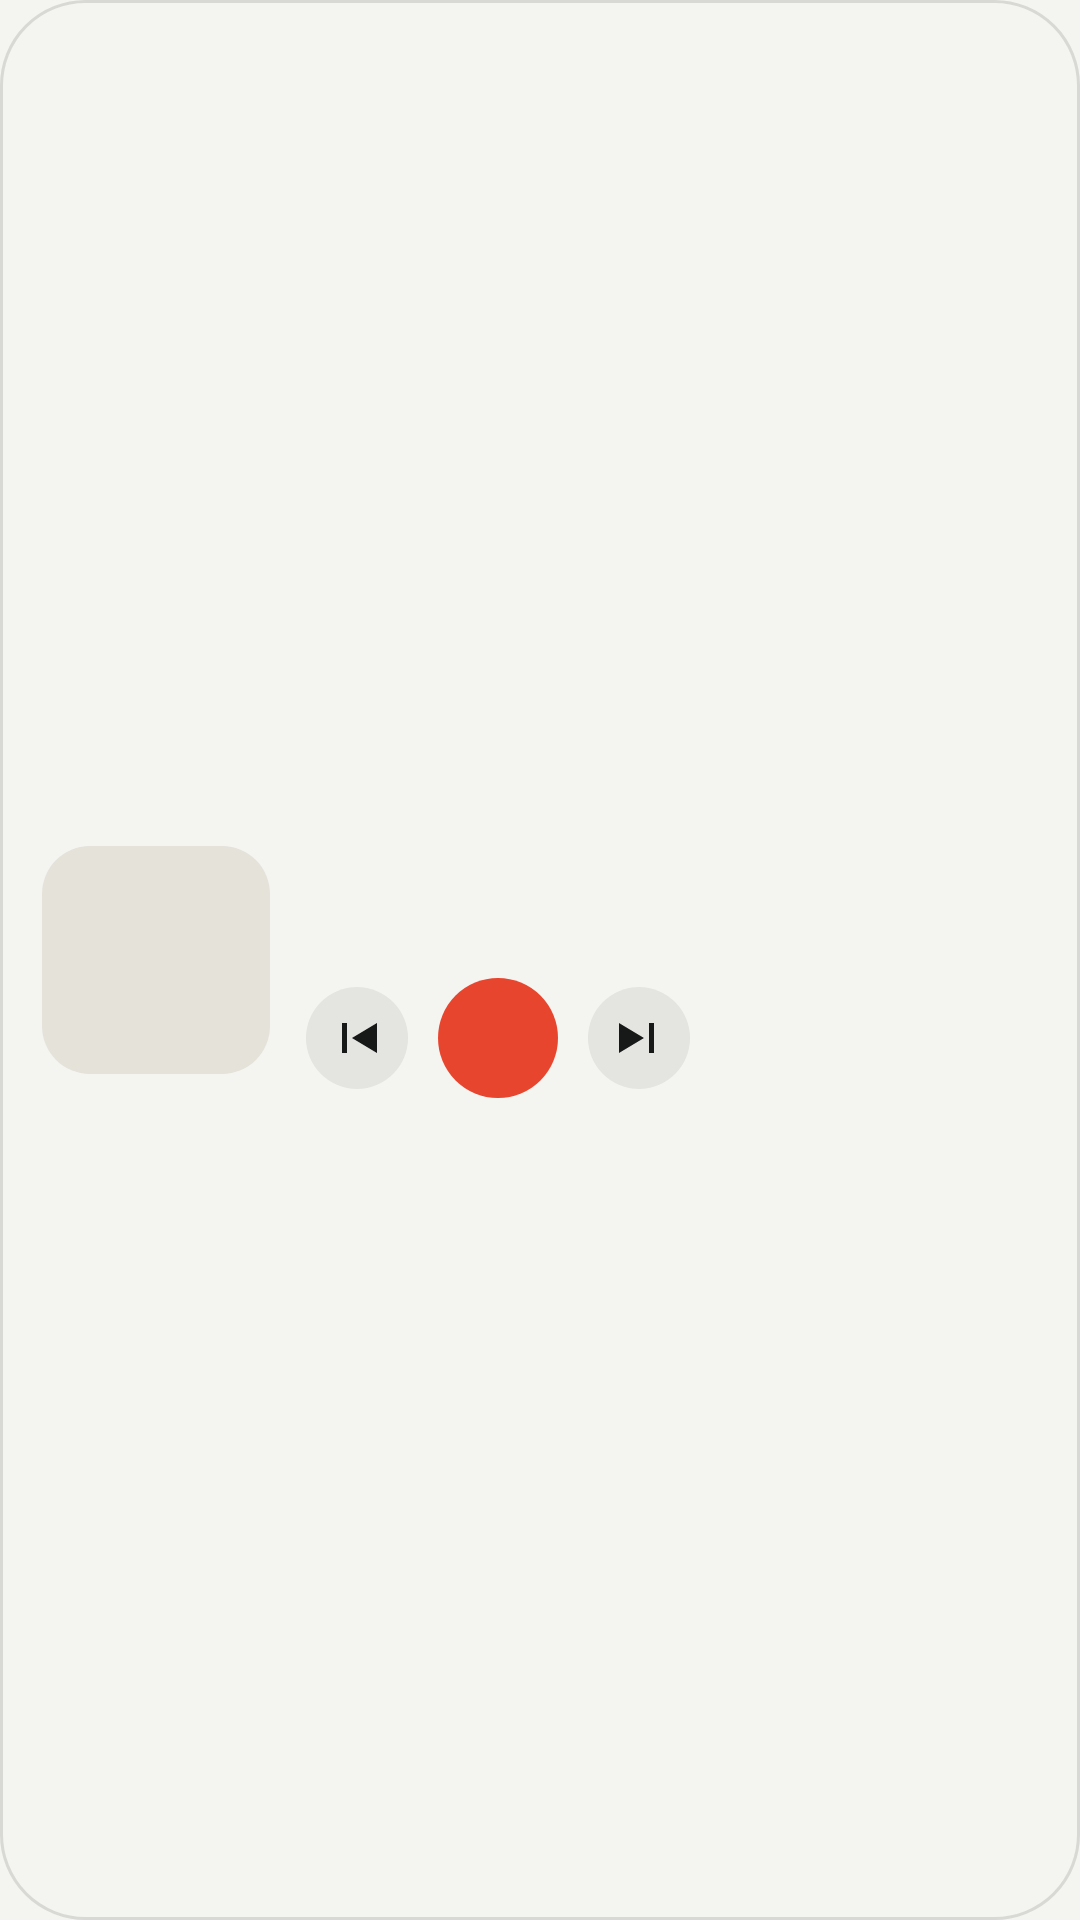

Icons on this 1080*1920 Android screen, each with the point to tap as [x,y]:
widget next: [636,1038]
widget prev: [359,1038]
